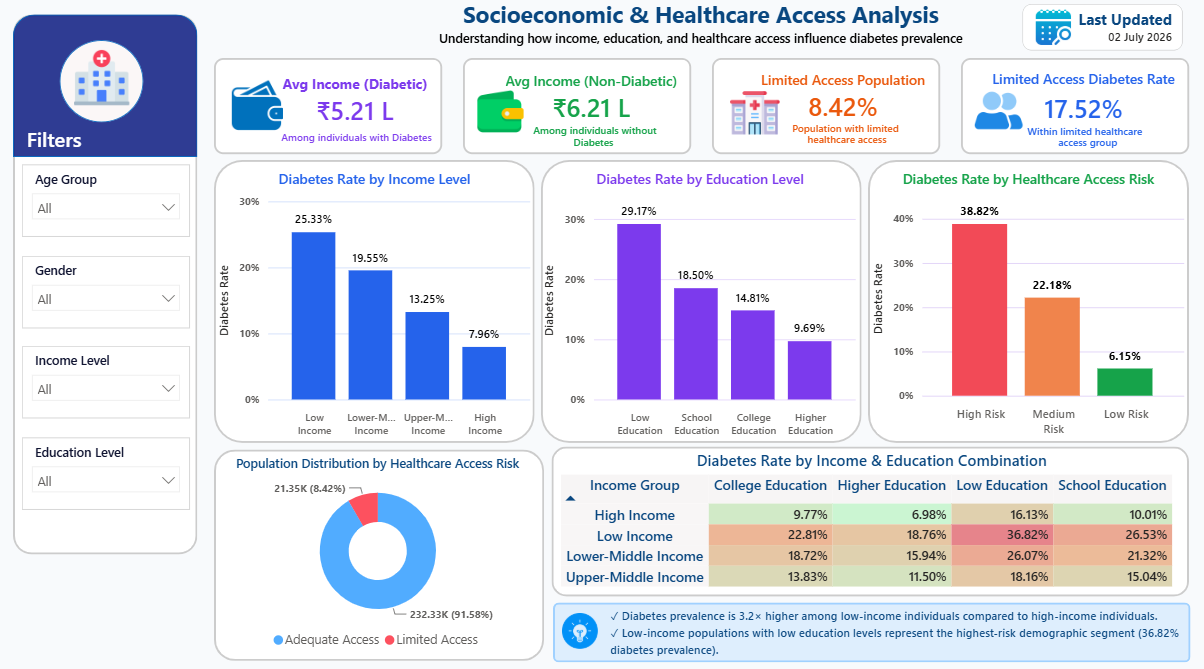

This screenshot's page, from the dashboard's own definition file:
{"tool":"powerbi","page":{"name":" Socioeconomic & Healthcare Access","canvas":[1280,720],"ordinal":3},"visuals":[{"type":"shape","box":[15.9,23.9,195.6,572.6],"z":0},{"type":"cardVisual","fields":{"Data":["diabetes_featuredFinal.Avg Income Diabetic Display"]},"box":[229,70.6,241.8,101.8],"z":1000},{"type":"cardVisual","fields":{"Data":["diabetes_featuredFinal.Avg Income Non-Diabetic Display"]},"box":[493.1,70.6,241.8,101.8],"z":2000},{"type":"cardVisual","fields":{"Data":["diabetes_featuredFinal.High Risk Access %"]},"box":[757.1,70.6,241.8,101.8],"z":3000},{"type":"cardVisual","fields":{"Data":["diabetes_featuredFinal.High Risk Access Diabetes Rate"]},"box":[1021.2,70.6,241.8,101.8],"z":4000},{"type":"image","box":[243.4,89.1,63.6,62],"z":5000},{"type":"image","box":[491.5,98.6,82.7,55.7],"z":6000},{"type":"image","box":[776.2,101.8,52.5,52.5],"z":7000},{"type":"image","box":[1022.8,98.6,76.3,54.1],"z":8000},{"type":"shape","box":[15.9,23.9,195.6,151.1],"z":9000},{"type":"slicer","fields":{"Values":["diabetes_featuredFinal.Age_Group"]},"box":[25.4,182.9,178.1,76.3],"z":10000},{"type":"slicer","fields":{"Values":["diabetes_featuredFinal.Gender"]},"box":[25.4,279.4,178.1,76.3],"z":11000},{"type":"slicer","fields":{"Values":["diabetes_featuredFinal.Income_Level"]},"box":[25.4,375.9,178.1,76.3],"z":12000},{"type":"slicer","fields":{"Values":["diabetes_featuredFinal.Education_Level"]},"box":[25.4,472.4,178.1,76.3],"z":13000},{"type":"textbox","box":[25.4,135.2,82.7,42.9],"z":14000},{"type":"textbox","box":[345.2,1.6,800.1,62],"z":15000},{"type":"textbox","box":[273.6,138.4,213.1,35],"z":16000},{"type":"shape","box":[65.2,50.9,89.1,87.5],"z":17000},{"type":"cardVisual","fields":{"Data":["diabetes_featuredFinal.Last Update"]},"box":[1085.9,12.7,170.2,49.3],"z":18000},{"type":"image","box":[1098.6,12.7,39.8,49.3],"z":19000},{"type":"image","box":[63.6,60.4,92.3,60.4],"z":20000},{"type":"textbox","box":[762.9,128.8,270.4,28.6],"z":21000},{"type":"textbox","box":[1070,131.6,163.8,35],"z":22000},{"type":"shape","box":[229,178.1,340,300],"z":23000},{"type":"shape","box":[575.8,178.1,340,300],"z":24000},{"type":"shape","box":[922.6,178.1,340.4,300],"z":25000},{"type":"clusteredColumnChart","title":"Diabetes Rate by Income Level","fields":{"Category":["diabetes_featuredFinal.Income_Group"],"Y":["diabetes_featuredFinal.Diabetes Rate"]},"box":[229,187.7,340.4,291.1],"z":26000},{"type":"textbox","box":[518.5,130.4,229,30.2],"z":27000},{"type":"textbox","box":[764.5,140,270.4,28.6],"z":28000},{"type":"textbox","box":[516.9,143.2,229,30.2],"z":29000},{"type":"textbox","box":[1073.2,142.7,163.8,35],"z":30000},{"type":"shape","box":[229,485.1,350,224.3],"z":31000},{"type":"shape","box":[586.9,482.6,676,159.1],"z":32000},{"type":"clusteredColumnChart","title":"Diabetes Rate by Education Level","fields":{"Category":["diabetes_featuredFinal.Education_Group"],"Y":["diabetes_featuredFinal.Diabetes Rate"]},"box":[574.2,187.7,340.4,291.1],"z":33000},{"type":"clusteredColumnChart","title":"Diabetes Rate by Healthcare Access Risk","fields":{"Category":["diabetes_featuredFinal.Risk_Level"],"Y":["diabetes_featuredFinal.Diabetes Rate"]},"box":[922.6,187.7,340.4,291.1],"z":34000},{"type":"donutChart","title":"Population Distribution by Healthcare Access Risk","fields":{"Category":["diabetes_featuredFinal.Healthcare_Access_Risk"],"Y":["CountNonNull(diabetes_featuredFinal.Risk_Level)"]},"box":[225.9,489.9,353.1,216.3],"z":35000},{"type":"pivotTable","title":"Diabetes Rate by Income & Education Combination","fields":{"Rows":["diabetes_featuredFinal.Income_Group"],"Columns":["diabetes_featuredFinal.Education_Group"],"Values":["diabetes_featuredFinal.Diabetes Rate"]},"box":[591.7,485.1,669.6,154.3],"z":36000},{"type":"shape","box":[588.5,647.4,676,63.6],"z":37000},{"type":"textbox","box":[644.2,645.8,623.5,71.6],"z":38000},{"type":"image","box":[598.1,658.5,38.2,38.2],"z":39000}]}

Visuals, with their boxes in screenshot pixels (x1, y1, x2, y2), scaled from the page's 1280x720 canvas onto the 1204x669 screenshot:
shape: rect(15, 22, 199, 554)
cardVisual - diabetes_featuredFinal.Avg Income Diabetic Display: rect(215, 66, 443, 160)
cardVisual - diabetes_featuredFinal.Avg Income Non-Diabetic Display: rect(464, 66, 691, 160)
cardVisual - diabetes_featuredFinal.High Risk Access %: rect(712, 66, 940, 160)
cardVisual - diabetes_featuredFinal.High Risk Access Diabetes Rate: rect(961, 66, 1188, 160)
image: rect(229, 83, 289, 140)
image: rect(462, 92, 540, 143)
image: rect(730, 95, 779, 143)
image: rect(962, 92, 1034, 142)
shape: rect(15, 22, 199, 163)
slicer - diabetes_featuredFinal.Age_Group: rect(24, 170, 191, 241)
slicer - diabetes_featuredFinal.Gender: rect(24, 260, 191, 331)
slicer - diabetes_featuredFinal.Income_Level: rect(24, 349, 191, 420)
slicer - diabetes_featuredFinal.Education_Level: rect(24, 439, 191, 510)
textbox: rect(24, 126, 102, 165)
textbox: rect(325, 1, 1077, 59)
textbox: rect(257, 129, 458, 161)
shape: rect(61, 47, 145, 129)
cardVisual - diabetes_featuredFinal.Last Update: rect(1021, 12, 1182, 58)
image: rect(1033, 12, 1071, 58)
image: rect(60, 56, 147, 112)
textbox: rect(718, 120, 972, 146)
textbox: rect(1006, 122, 1161, 155)
shape: rect(215, 165, 535, 444)
shape: rect(542, 165, 861, 444)
shape: rect(868, 165, 1188, 444)
"Diabetes Rate by Income Level" clusteredColumnChart: rect(215, 174, 536, 445)
textbox: rect(488, 121, 703, 149)
textbox: rect(719, 130, 973, 157)
textbox: rect(486, 133, 702, 161)
textbox: rect(1009, 133, 1164, 165)
shape: rect(215, 451, 545, 659)
shape: rect(552, 448, 1188, 596)
"Diabetes Rate by Education Level" clusteredColumnChart: rect(540, 174, 860, 445)
"Diabetes Rate by Healthcare Access Risk" clusteredColumnChart: rect(868, 174, 1188, 445)
"Population Distribution by Healthcare Access Risk" donutChart: rect(212, 455, 545, 656)
"Diabetes Rate by Income & Education Combination" pivotTable: rect(557, 451, 1186, 594)
shape: rect(554, 602, 1189, 661)
textbox: rect(606, 600, 1192, 667)
image: rect(563, 612, 599, 647)
